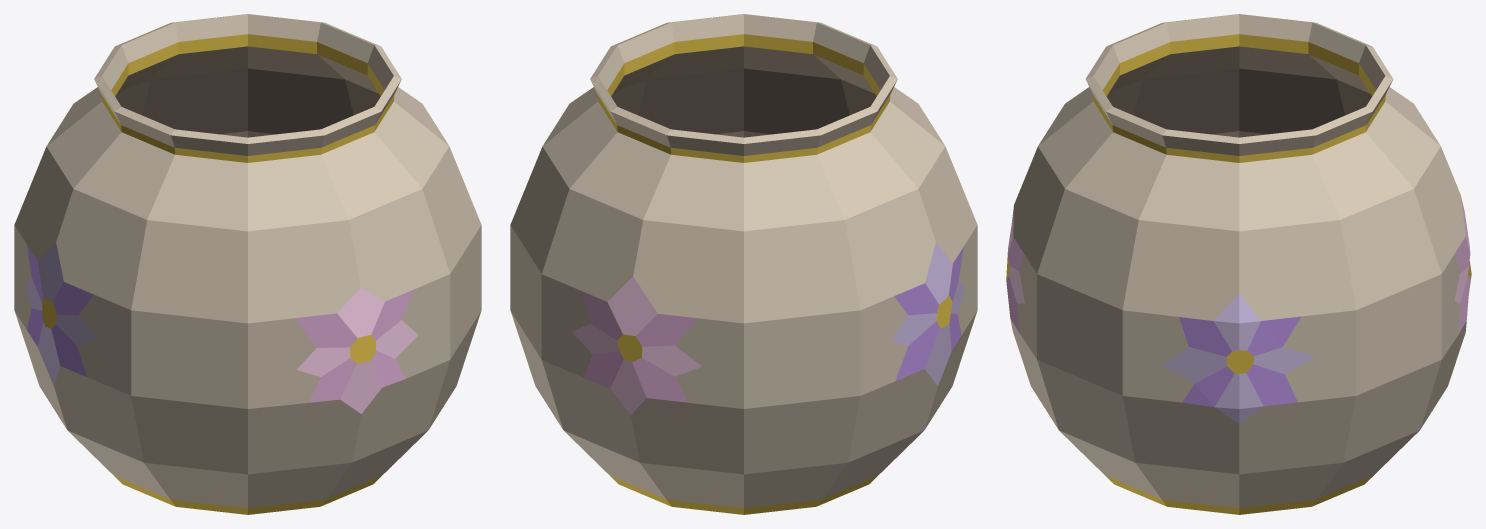
File: vaseB.glb
The picture shows the model from 3 angles, left to right: view 1: azimuth 30°, elevation 25°; view 2: azimuth 150°, elevation 25°; view 3: azimuth 270°, elevation 25°; orthographic projection.
Parts seen in each view (by area): view 1: Circle; view 2: Circle; view 3: Circle.
Boxes of the visible parts, x1,y1,x2,y2 form: Circle: (14,14,481,514); Circle: (510,14,977,514); Circle: (1006,14,1471,514).
Size of the model in its own units: 1.61 by 1.44 by 1.61.
